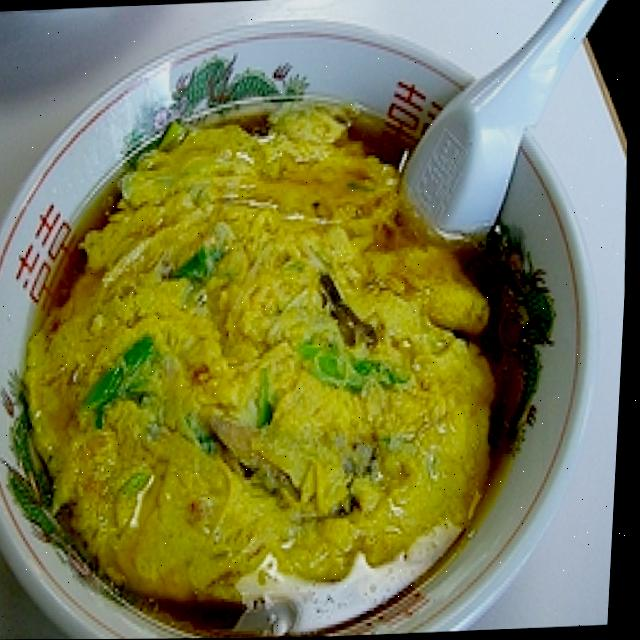面条主食: (3, 91, 538, 640)
